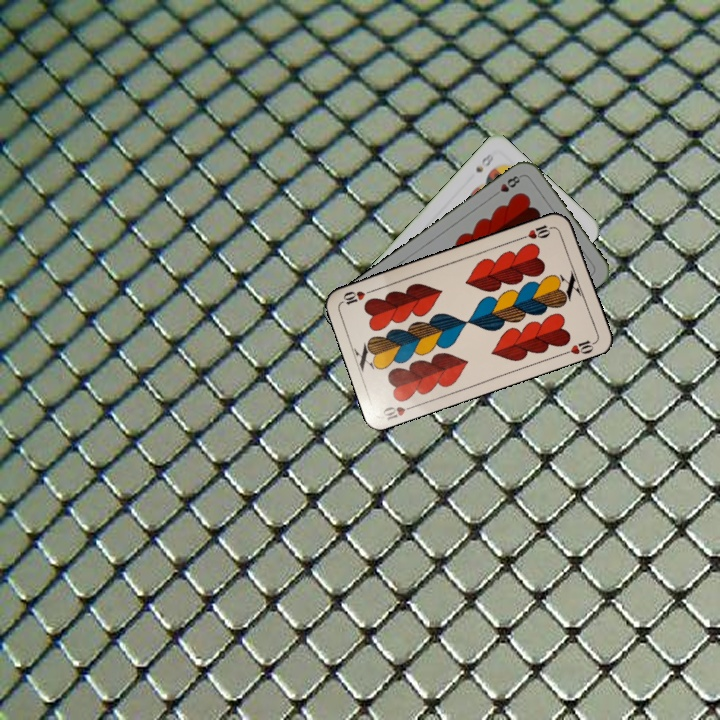H10: (379, 400, 419, 423), (517, 221, 557, 242)
H8: (489, 171, 524, 200)
S8: (471, 149, 496, 175)
